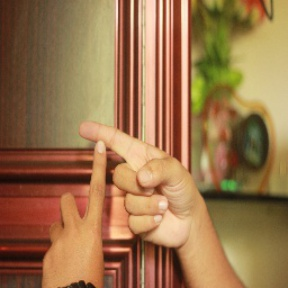T: (49, 113, 173, 257)
